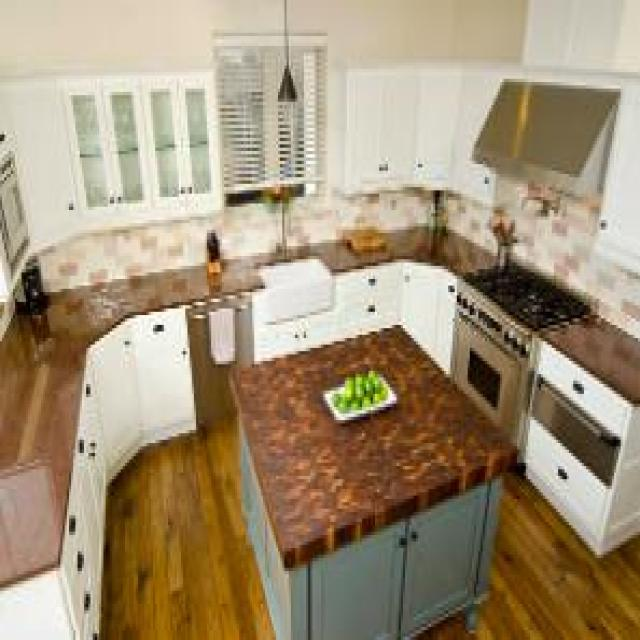dishwasher: (185, 288, 252, 426)
